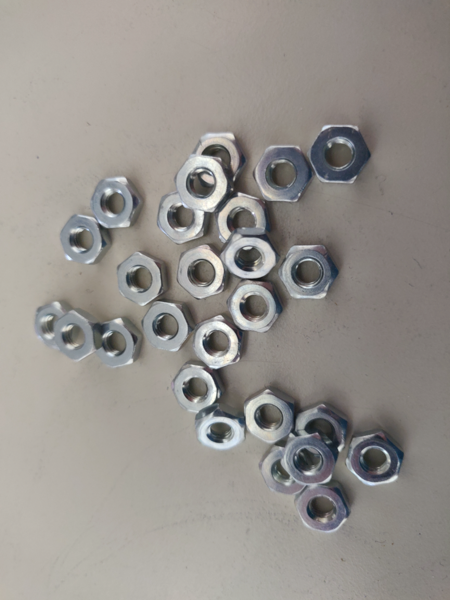nut: (310, 125, 373, 185), (279, 244, 339, 302), (345, 431, 407, 486), (292, 482, 354, 535), (244, 389, 300, 446), (253, 146, 310, 200), (225, 282, 279, 335), (191, 317, 243, 372), (116, 252, 169, 305), (283, 439, 338, 490), (176, 155, 225, 212), (177, 246, 228, 300), (223, 230, 278, 280), (93, 177, 143, 232), (143, 302, 194, 355), (158, 192, 209, 244), (214, 194, 265, 244), (255, 446, 305, 497), (61, 215, 110, 267), (173, 366, 223, 416), (193, 135, 244, 184), (96, 316, 139, 370), (298, 405, 346, 452), (54, 312, 97, 364), (195, 406, 243, 452), (35, 300, 66, 350)
